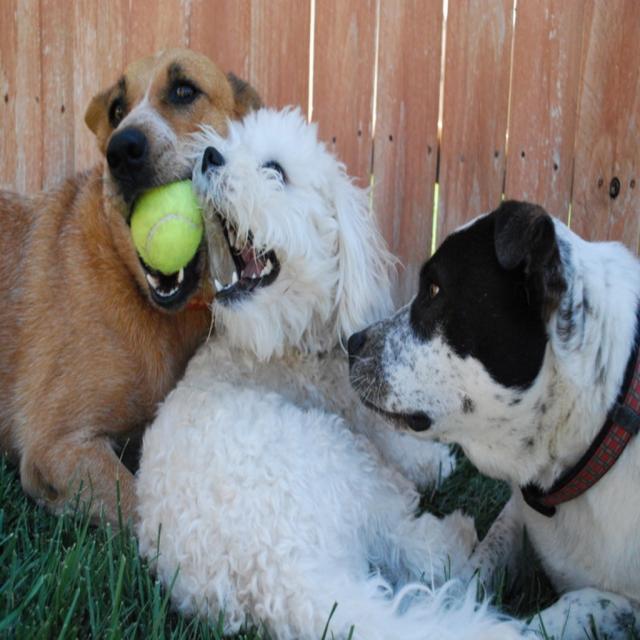Tennis-Ball: (127, 176, 206, 274)
